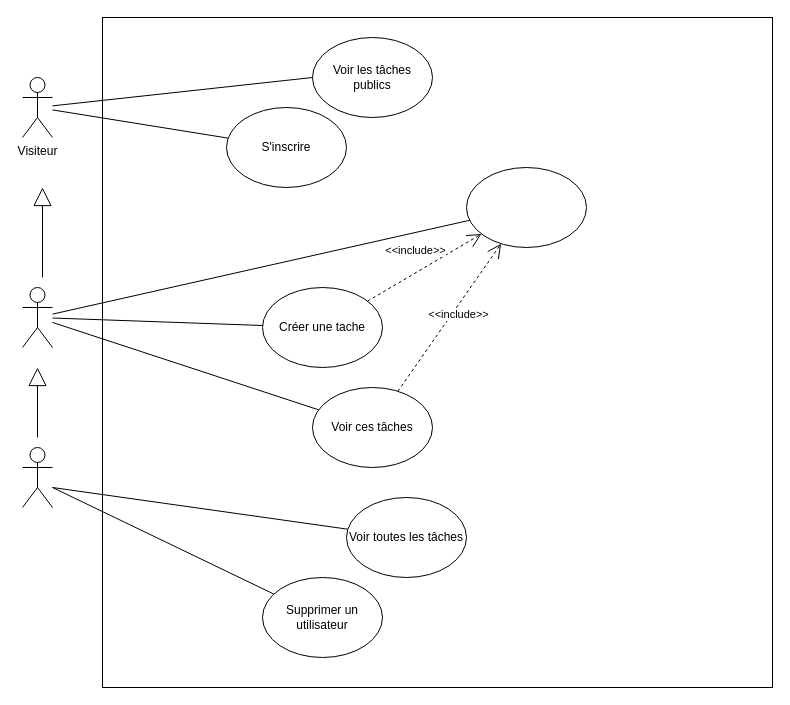
This 790x705 diagram has some shape labels left out. The centre of each missing label's shape, as x and y in pixels:
Admin: point 37,477
Se connecter: point 526,207
User: point 37,317
